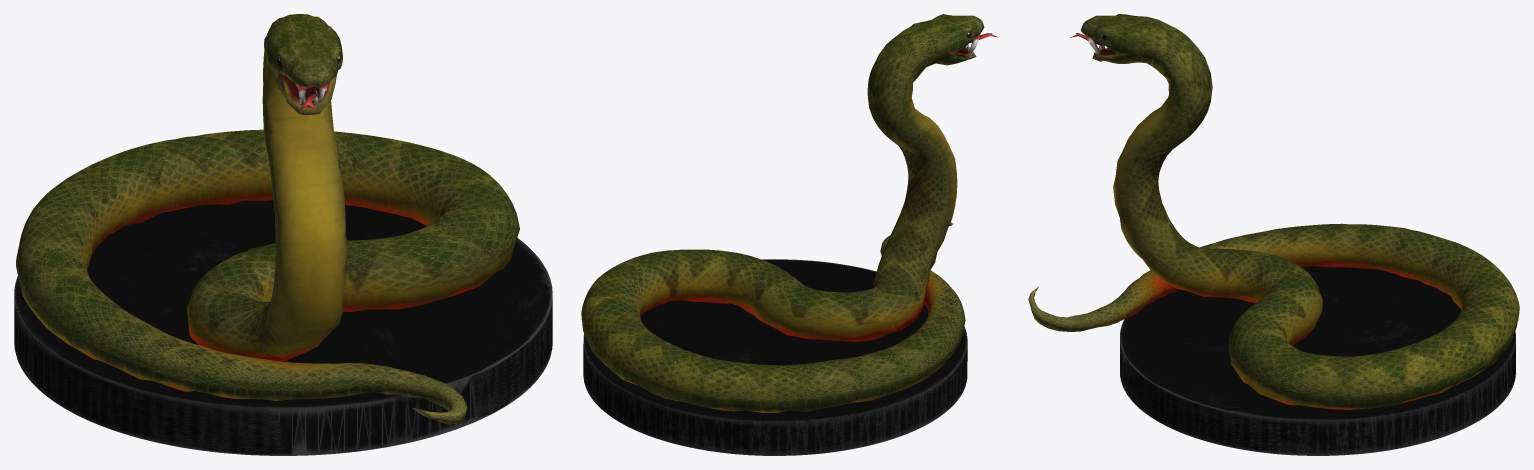
The model's file is MZ4250 - Giant Snake.glb.
3 renders of one model, left to right at view 1: azimuth 30°, elevation 25°; view 2: azimuth 150°, elevation 25°; view 3: azimuth 270°, elevation 25°, orthographic. The views are drawn at different scales.
Parts seen in each view (by area): view 1: Snake_low.001, Base_low.001; view 2: Snake_low.001, Base_low.001; view 3: Snake_low.001, Base_low.001.
Boxes of the visible parts, left/top/right/bottom form: Snake_low.001: left=16, top=14, right=519, bottom=424; Base_low.001: left=14, top=200, right=552, bottom=455; Snake_low.001: left=581, top=14, right=998, bottom=412; Base_low.001: left=583, top=259, right=967, bottom=455; Snake_low.001: left=1028, top=14, right=1519, bottom=409; Base_low.001: left=1120, top=266, right=1515, bottom=455.
Size of the model in its own units: 1.38 by 1.21 by 1.71.
1 material, 1 textured.
